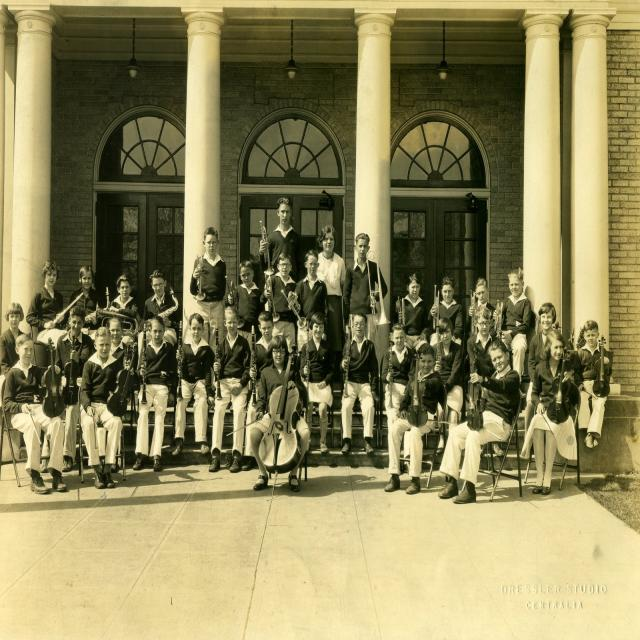cello: (259, 343, 300, 469)
clarinet: (244, 320, 262, 408), (210, 324, 224, 403), (140, 322, 152, 407), (174, 318, 187, 394), (342, 324, 352, 398), (387, 337, 395, 411), (304, 319, 311, 396), (434, 327, 443, 373)
violin: (106, 341, 138, 420), (544, 349, 574, 423), (41, 335, 66, 421), (465, 348, 487, 430), (407, 351, 429, 427), (65, 332, 81, 407), (592, 335, 611, 397)
